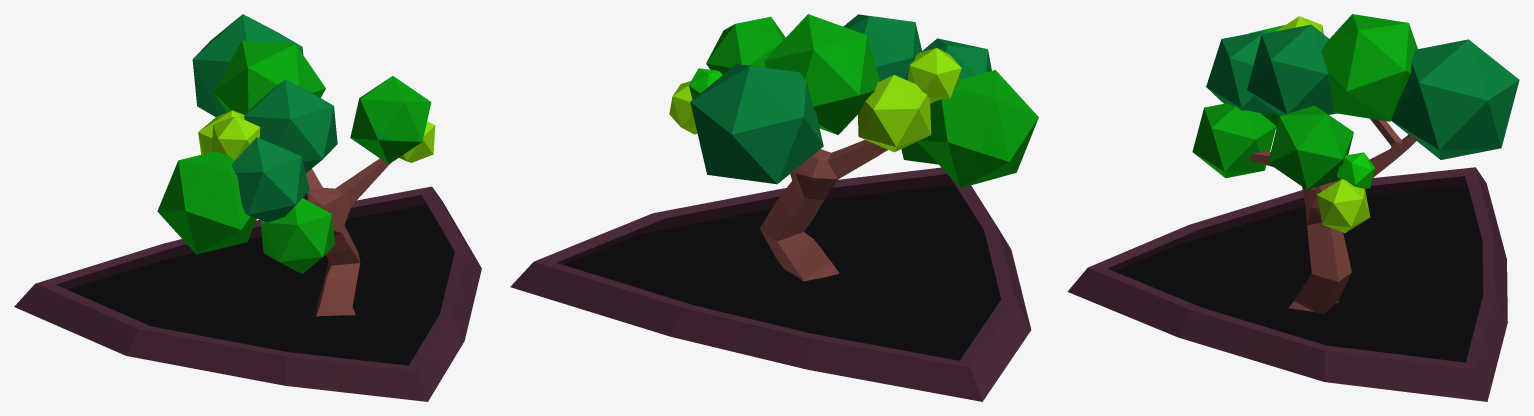
The model's file is zomerboom.glb.
3 views of the same model, side by side, from view 1: azimuth 30°, elevation 25°; view 2: azimuth 150°, elevation 25°; view 3: azimuth 270°, elevation 25° (orthographic). The views are drawn at different scales.
Parts seen in each view (by area): view 1: garagegat, Icosphere.015, Icosphere.018, Cube.002_Brown_0, Icosphere.020, Icosphere.022, Icosphere.031, Icosphere.017, Icosphere.019, Icosphere.016, Icosphere.021, Icosphere.014; view 2: garagegat, Icosphere.019, Icosphere.015, Icosphere.020, Cube.002_Brown_0, Icosphere.014, Icosphere.018, Icosphere.022, Icosphere.016, Icosphere.031, Icosphere.021, Icosphere.023 (+1 smaller); view 3: garagegat, Icosphere.019, Icosphere.020, Icosphere.018, Cube.002_Brown_0, Icosphere.022, Icosphere.017, Icosphere.031, Icosphere.021, Icosphere.023.
Part boxes in pixels (left/top/right/bottom): garagegat: left=14, top=186, right=481, bottom=401; Icosphere.015: left=157, top=151, right=256, bottom=254; Icosphere.018: left=244, top=79, right=337, bottom=172; Cube.002_Brown_0: left=303, top=158, right=390, bottom=316; Icosphere.020: left=213, top=40, right=325, bottom=115; Icosphere.022: left=350, top=76, right=431, bottom=164; Icosphere.031: left=231, top=137, right=309, bottom=222; Icosphere.017: left=260, top=198, right=334, bottom=273; Icosphere.019: left=192, top=14, right=303, bottom=116; Icosphere.016: left=211, top=116, right=260, bottom=160; Icosphere.021: left=399, top=121, right=435, bottom=162; Icosphere.014: left=198, top=110, right=244, bottom=154; garagegat: left=510, top=167, right=1031, bottom=401; Icosphere.019: left=690, top=64, right=823, bottom=184; Icosphere.015: left=918, top=70, right=1038, bottom=188; Icosphere.020: left=764, top=14, right=879, bottom=134; Cube.002_Brown_0: left=760, top=140, right=887, bottom=281; Icosphere.014: left=858, top=75, right=931, bottom=152; Icosphere.018: left=843, top=14, right=922, bottom=80; Icosphere.022: left=706, top=16, right=785, bottom=74; Icosphere.016: left=908, top=48, right=961, bottom=103; Icosphere.031: left=922, top=38, right=991, bottom=107; Icosphere.021: left=669, top=81, right=697, bottom=134; Icosphere.023: left=689, top=68, right=722, bottom=99; garagegat: left=1067, top=167, right=1507, bottom=401; Icosphere.019: left=1391, top=39, right=1519, bottom=159; Icosphere.020: left=1321, top=14, right=1417, bottom=121; Icosphere.018: left=1247, top=24, right=1336, bottom=115; Cube.002_Brown_0: left=1249, top=118, right=1417, bottom=314; Icosphere.022: left=1268, top=105, right=1353, bottom=189; Icosphere.017: left=1192, top=103, right=1276, bottom=178; Icosphere.031: left=1206, top=30, right=1275, bottom=115; Icosphere.021: left=1317, top=179, right=1370, bottom=232; Icosphere.023: left=1337, top=152, right=1375, bottom=188.
Size of the model in its own units: 16.7 by 10.55 by 14.6.
Materials: 1 (1 with a texture image).
